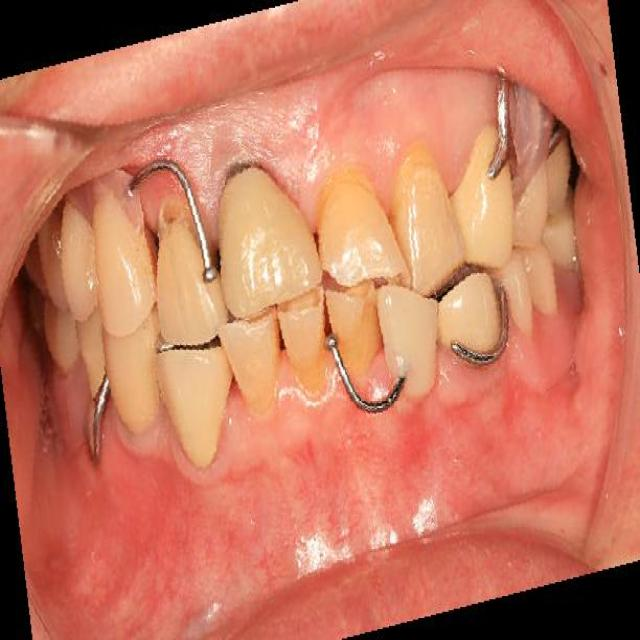caries: (152, 191, 202, 258), (219, 144, 278, 196)
